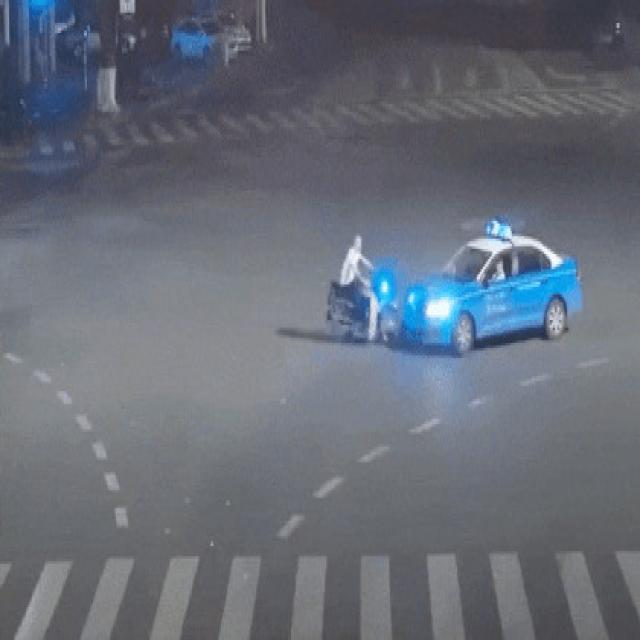multiple_accident: (322, 206, 591, 365)
